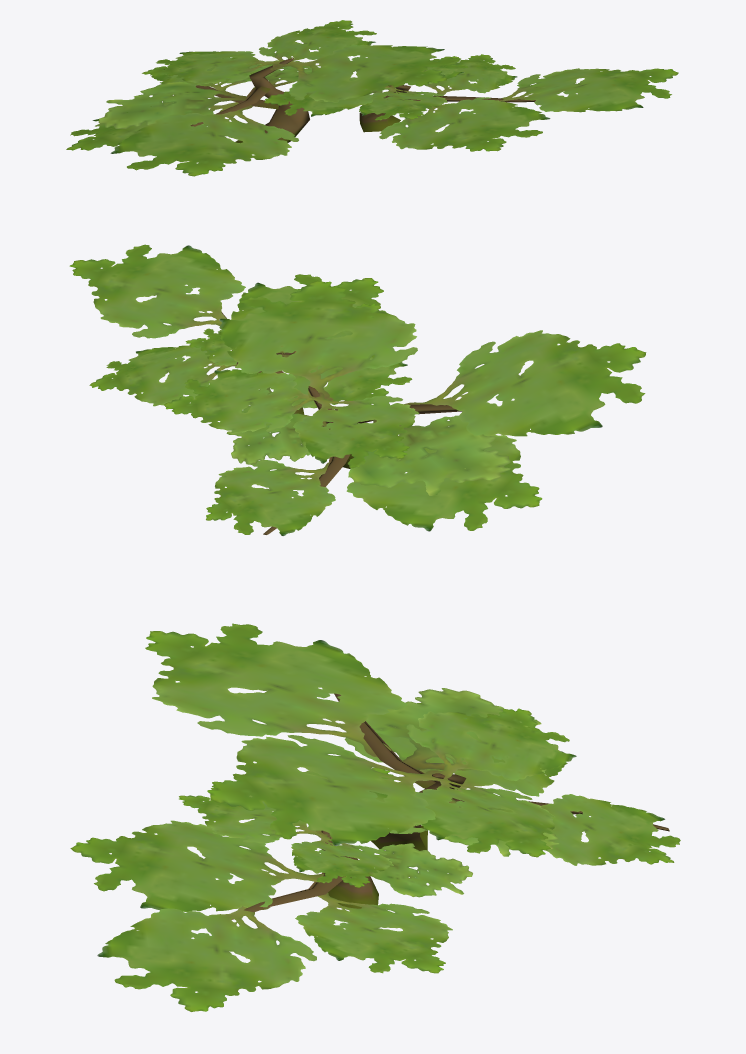
Rendered from liemo_plant_07 (13).fbx.
3 views of the same model, one above another, from view 1: azimuth 30°, elevation 25°; view 2: azimuth 150°, elevation 25°; view 3: azimuth 270°, elevation 25° (orthographic). The views are drawn at different scales.
Parts seen in each view (by area): view 1: liemo_plant_07 (13); view 2: liemo_plant_07 (13); view 3: liemo_plant_07 (13).
Part boxes in pixels (x1,y1,x2,y2): liemo_plant_07 (13): (66,20,678,176); liemo_plant_07 (13): (69,244,646,536); liemo_plant_07 (13): (70,623,680,1011).
Size of the model in its own units: 14.23 by 2.05 by 10.6.
